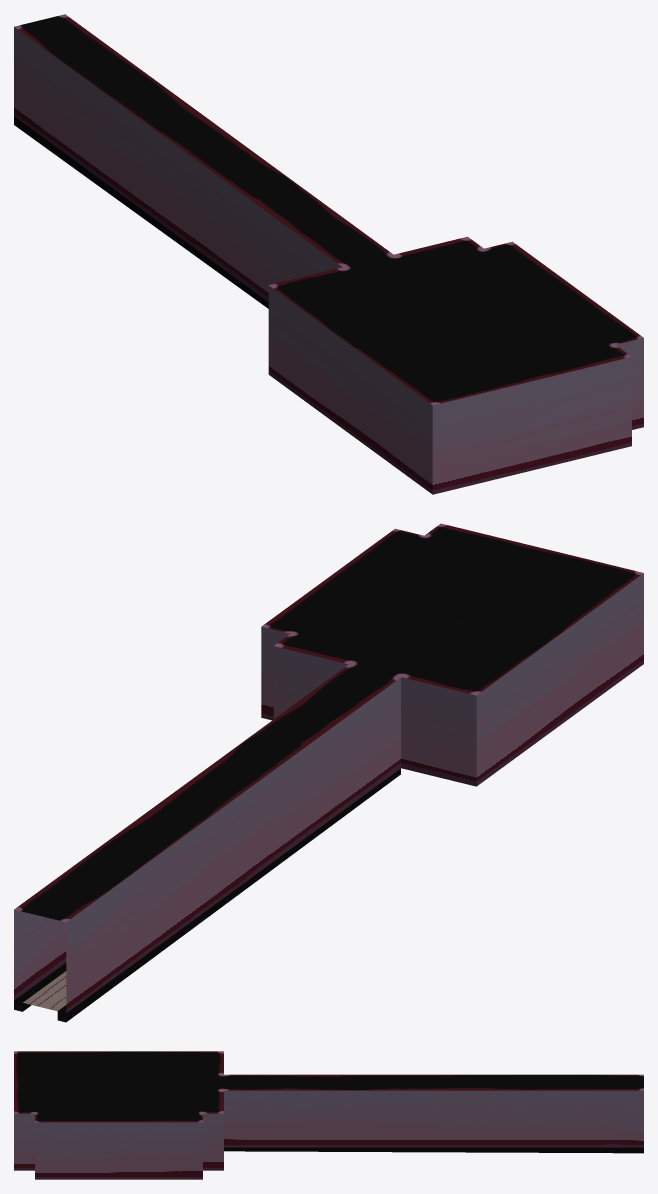
The model's file is madoRoom.glb.
3 renders of one model, top to bottom at view 1: azimuth 30°, elevation 25°; view 2: azimuth 150°, elevation 25°; view 3: azimuth 270°, elevation 25°, orthographic. The views are drawn at different scales.
Parts seen in each view (by area): view 1: Room; view 2: Room; view 3: Room.
Part boxes in pixels (bbox=[...]): Room: bbox=[14, 14, 643, 494]; Room: bbox=[14, 523, 643, 1022]; Room: bbox=[14, 1051, 643, 1179].
Size of the model in its own units: 8 by 3.3 by 30.
1 material, 1 textured.
